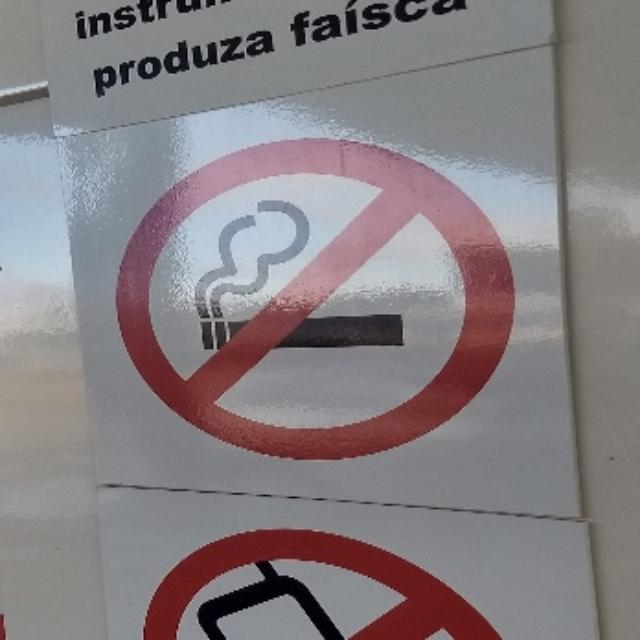cam hut thuoc: (118, 140, 513, 458)
